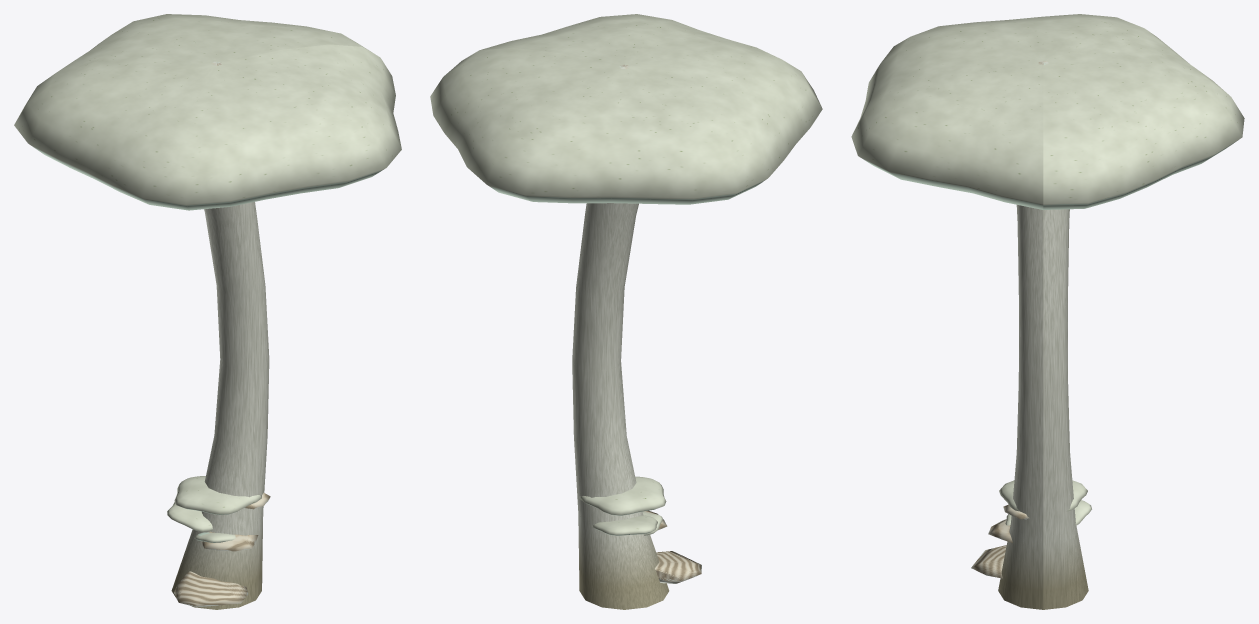
Rendered from cave_flora.glb.
3 views of the same model, side by side, from view 1: azimuth 30°, elevation 25°; view 2: azimuth 150°, elevation 25°; view 3: azimuth 270°, elevation 25° (orthographic).
Visible parts, largest first — view 1: Flora_CapGiant, Flora_CapCluster, Flora_Shelf; view 2: Flora_CapGiant, Flora_CapCluster, Flora_Shelf; view 3: Flora_CapGiant, Flora_Shelf, Flora_CapCluster.
Boxes of the visible parts, <box> form: Flora_CapGiant: <box>14,14,401,609</box>; Flora_CapCluster: <box>167,476,261,542</box>; Flora_Shelf: <box>174,493,270,607</box>; Flora_CapGiant: <box>430,14,822,609</box>; Flora_CapCluster: <box>579,476,666,535</box>; Flora_Shelf: <box>642,510,701,583</box>; Flora_CapGiant: <box>851,14,1244,609</box>; Flora_Shelf: <box>971,504,1029,578</box>; Flora_CapCluster: <box>999,480,1091,525</box>.
Bounding box in the file's own units: 1.83 × 2.7 × 1.82.
Materials: 1 (1 with a texture image).
